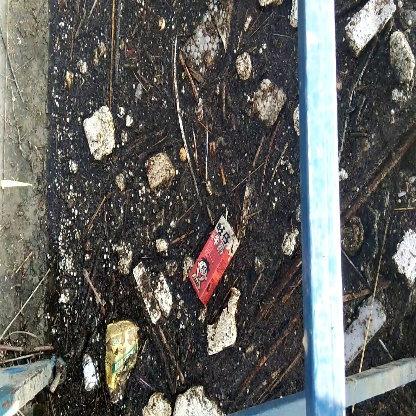milk-box: (185, 213, 244, 305)
